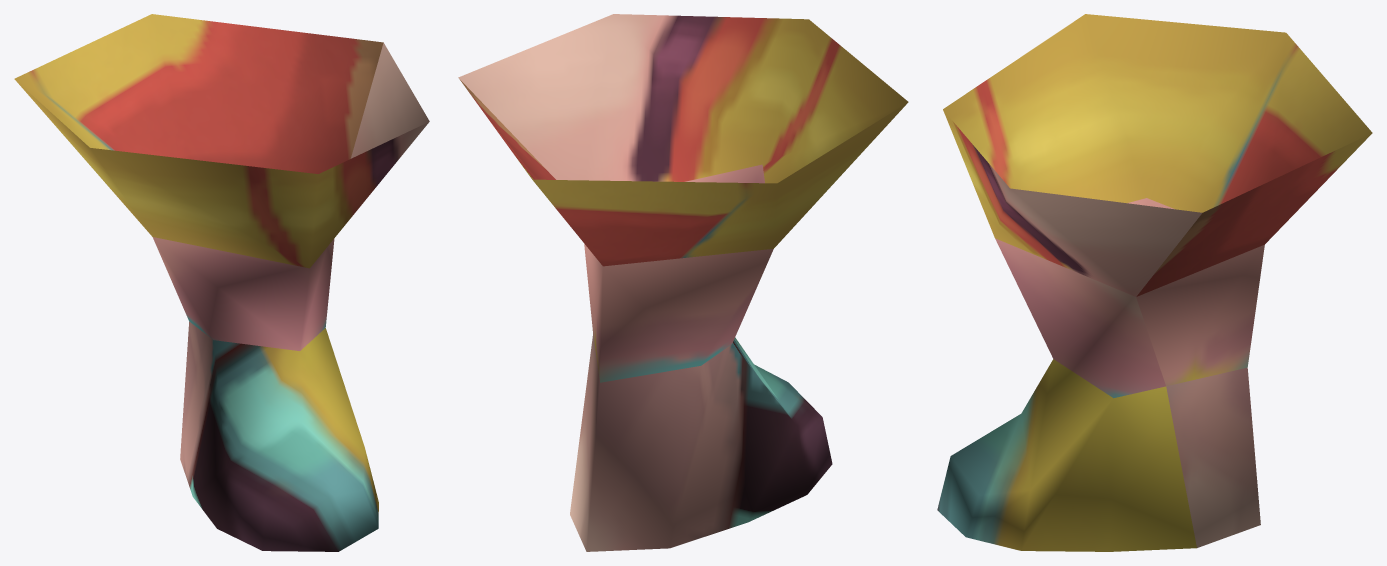
The model's file is horsehead_skill_00.FBX.
The picture shows the model from 3 angles, left to right: view 1: azimuth 30°, elevation 25°; view 2: azimuth 150°, elevation 25°; view 3: azimuth 270°, elevation 25°; orthographic projection. The views are drawn at different scales.
Visible parts, largest first — view 1: horsehead_skill_00; view 2: horsehead_skill_00; view 3: horsehead_skill_00.
Part boxes in pixels (x1,y1,x2,y2): horsehead_skill_00: [14, 14, 429, 551]; horsehead_skill_00: [458, 14, 908, 551]; horsehead_skill_00: [937, 14, 1372, 551].
Size of the model in its own units: 20.81 by 22.41 by 21.72.
